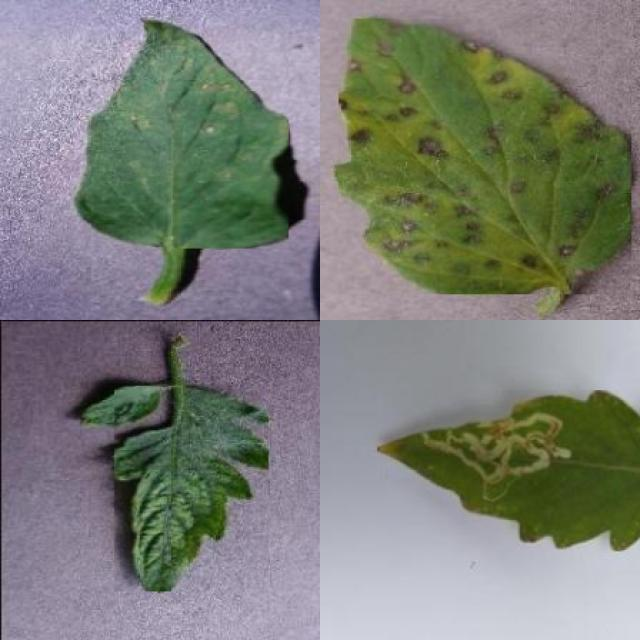Leaf Miner: (377, 390, 640, 551)
Mosaic Virus: (114, 385, 269, 592)
Septoria: (338, 19, 632, 294), (72, 15, 288, 248)
